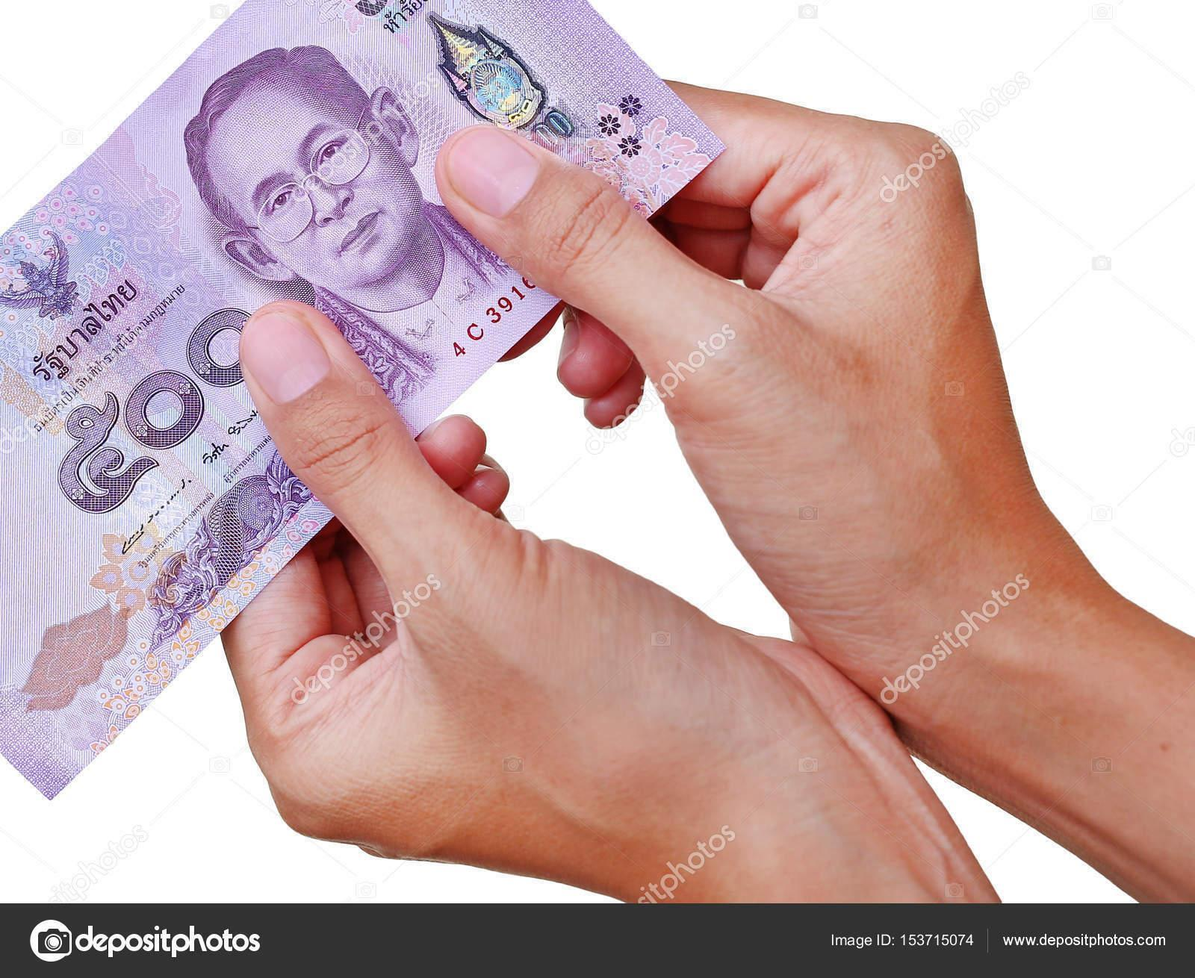500BahtTai: (0, 0, 718, 739)
